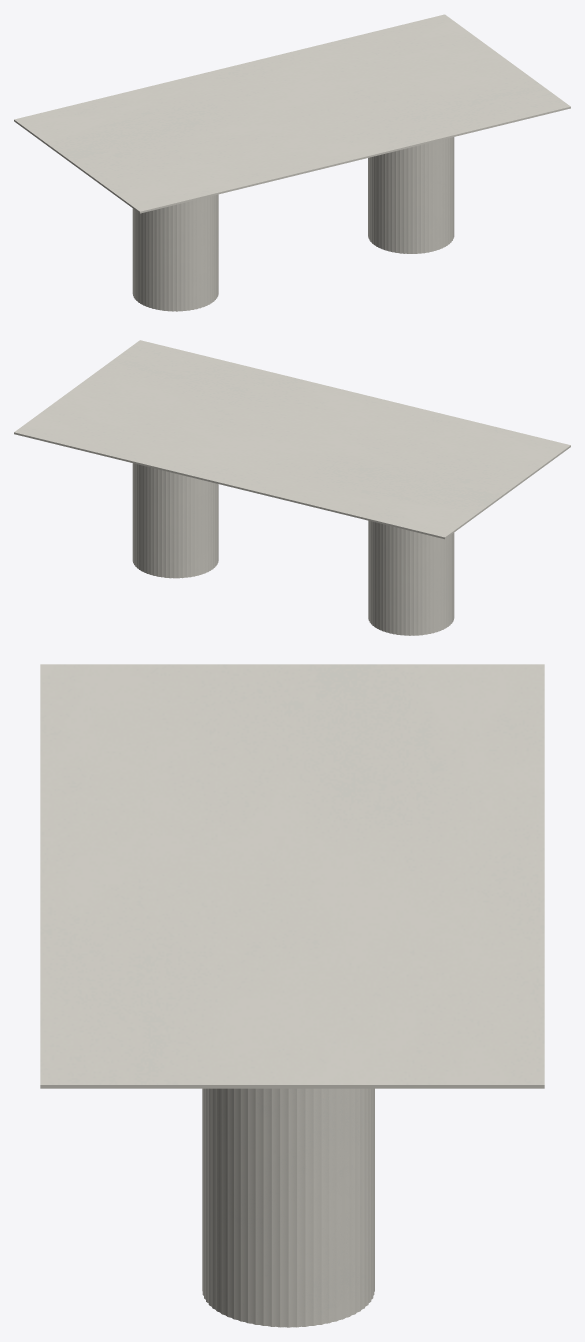
Rendered from pale_recta_facet_ripplesecond.glb.
3 views of the same model, one above another, from view 1: azimuth 30°, elevation 25°; view 2: azimuth 150°, elevation 25°; view 3: azimuth 270°, elevation 25° (orthographic). The views are drawn at different scales.
Parts seen in each view (by area): view 1: facet_recta, ripplesecond; view 2: facet_recta, ripplesecond; view 3: facet_recta, ripplesecond.
Boxes of the visible parts, x1,y1,x2,y2 form: facet_recta: (14, 14, 570, 213); ripplesecond: (132, 137, 454, 311); facet_recta: (14, 340, 570, 539); ripplesecond: (132, 463, 454, 635); facet_recta: (40, 664, 544, 1088); ripplesecond: (202, 1088, 374, 1327).
Size of the model in its own units: 7.5 by 2.51 by 3.8.
1 material, 1 textured.
